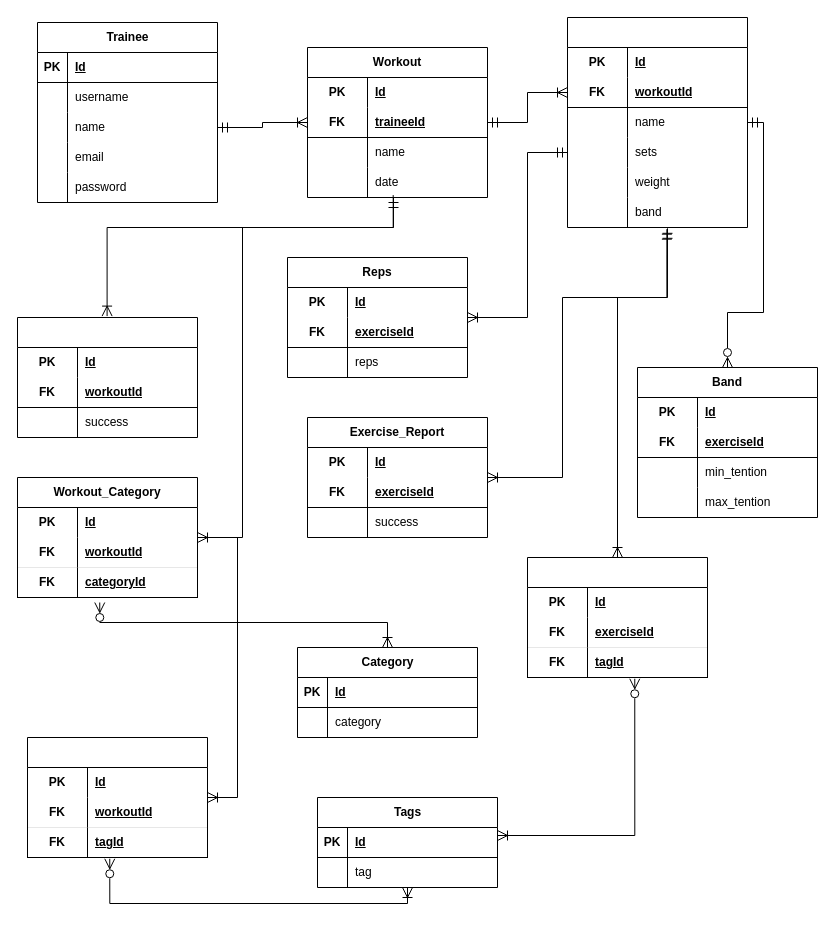
Image size: 835x932. Some labels were removed from this diagram. Here are the shapes that lost their labels. From the top down, the box of each, then its label:
(566, 16, 748, 228): Exercise
(16, 316, 198, 438): Workout_Report
(526, 556, 708, 678): Exercise_Tag
(26, 736, 208, 858): Workout_Tag
